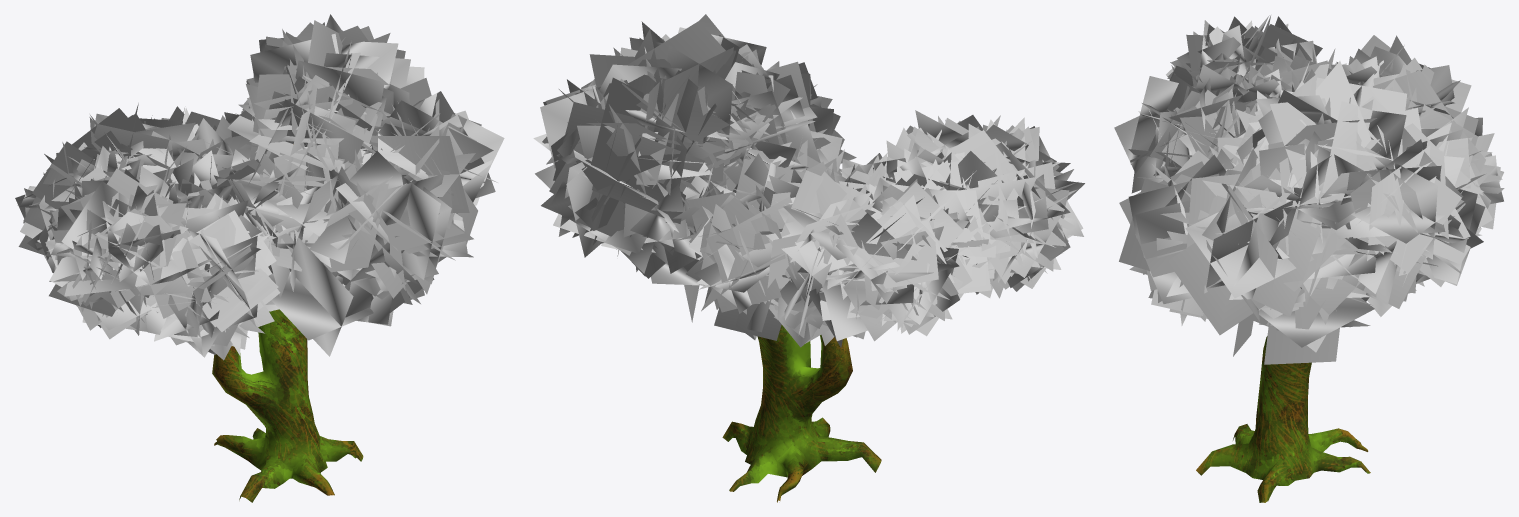
Rendered from treef3.1k.fbx.
3 views of the same model, side by side, from view 1: azimuth 30°, elevation 25°; view 2: azimuth 150°, elevation 25°; view 3: azimuth 270°, elevation 25° (orthographic). The views are drawn at different scales.
Parts seen in each view (by area): view 1: Leaves.002, Leaf.010, trunk_low, Leaf.004, Leaf.009; view 2: Leaves.002, Leaf.010, Leaf.009, trunk_low, Leaf.004; view 3: Leaves.002, Leaf.010, trunk_low, Leaf.009, Leaf.004.
Part boxes in pixels (bbox=[...]): Leaves.002: bbox=[225, 14, 504, 356]; Leaf.010: bbox=[45, 103, 318, 360]; trunk_low: bbox=[212, 144, 363, 502]; Leaf.004: bbox=[139, 93, 434, 326]; Leaf.009: bbox=[15, 80, 249, 272]; Leaves.002: bbox=[533, 14, 856, 322]; Leaf.010: bbox=[683, 110, 1084, 347]; Leaf.009: bbox=[601, 117, 972, 341]; trunk_low: bbox=[722, 325, 881, 502]; Leaf.004: bbox=[684, 86, 976, 298]; Leaves.002: bbox=[1119, 61, 1492, 364]; Leaf.010: bbox=[1114, 15, 1482, 327]; trunk_low: bbox=[1196, 336, 1370, 502]; Leaf.009: bbox=[1331, 35, 1504, 316]; Leaf.004: bbox=[1148, 48, 1315, 325].
Bounding box in the file's own units: 1042 × 947 × 758.
